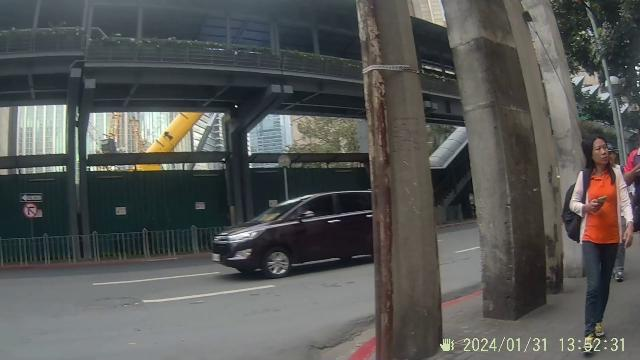car: (199, 174, 387, 278)
utility_post: (440, 0, 592, 324), (345, 0, 453, 356)
